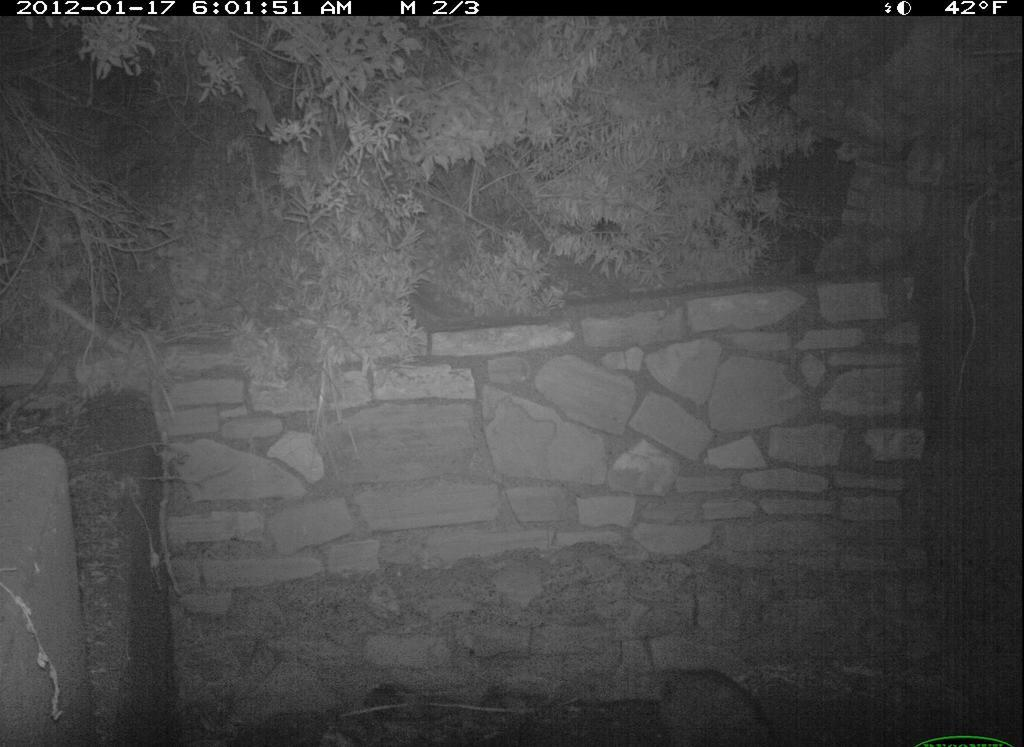raccoon: (642, 658, 797, 747)
